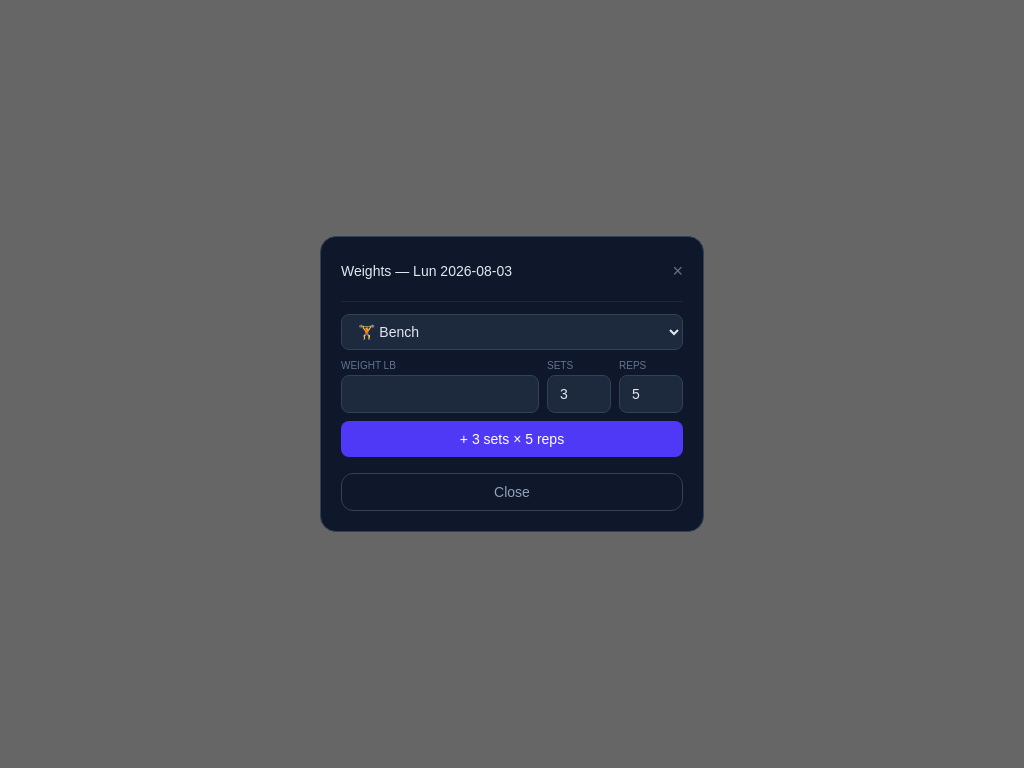
Scenario: una entrada inválida no dispara ningún POST y muestra el error
Expected: the number field labelled "Weight Lb" is shown, [341,375,539,413]
Click the button "+ 3 sets × 5 reps" at coordinates (512, 439), box [341,421,683,457]
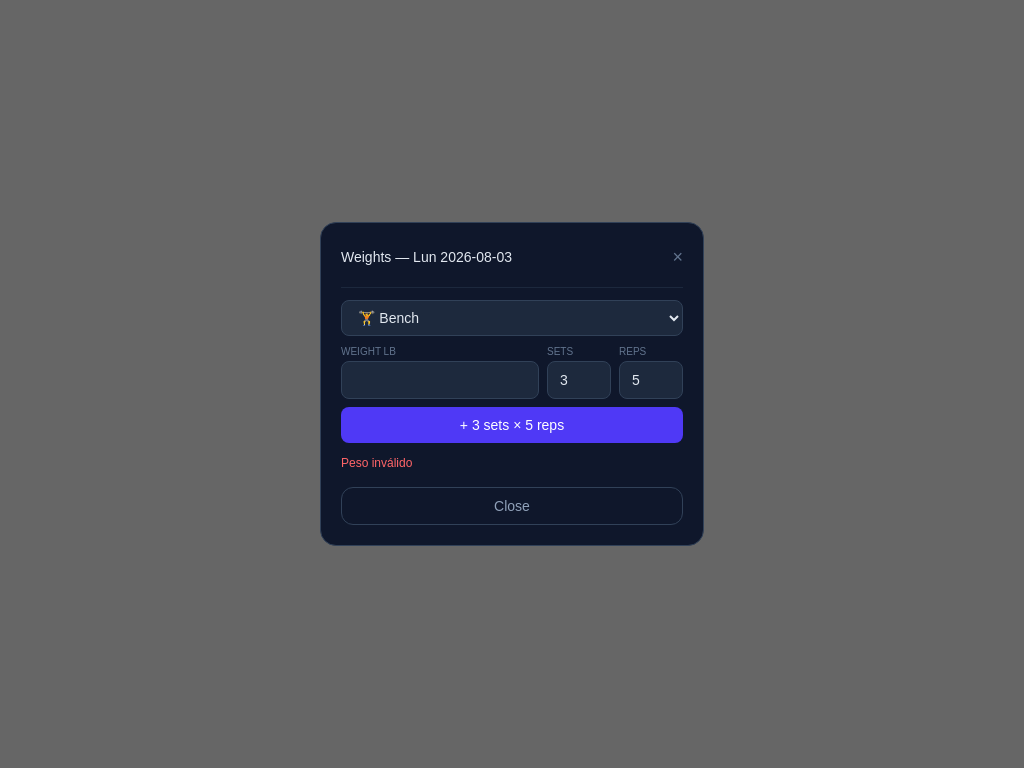
Expected: the text "Peso inválido" is shown, [341,456,412,470]
